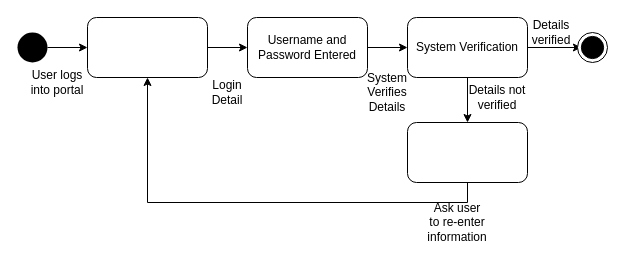
Image size: 625x261. Some labels were removed from this diagram. Each missing label, with the centre of its shape:
Denied Verification: (467,152)
Login: (147,47)
